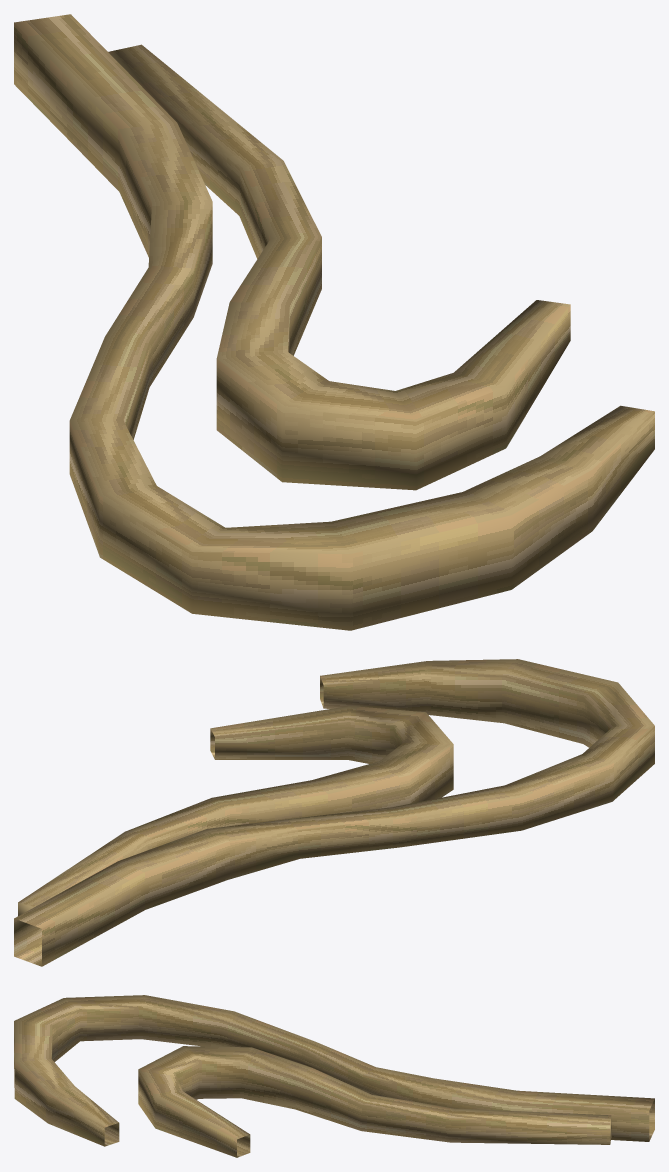
The model's file is EKH_BARRELROOM_PS_JA1_GATE03.fbx.
3 views of the same model, one above another, from view 1: azimuth 30°, elevation 25°; view 2: azimuth 150°, elevation 25°; view 3: azimuth 270°, elevation 25° (orthographic). The views are drawn at different scales.
Visible parts, largest first — view 1: EKH_BARRELROOM_PS_JA1_GATE03; view 2: EKH_BARRELROOM_PS_JA1_GATE03; view 3: EKH_BARRELROOM_PS_JA1_GATE03.
Boxes of the visible parts, bbox=[...] form: EKH_BARRELROOM_PS_JA1_GATE03: bbox=[14, 14, 654, 630]; EKH_BARRELROOM_PS_JA1_GATE03: bbox=[14, 659, 654, 966]; EKH_BARRELROOM_PS_JA1_GATE03: bbox=[14, 995, 654, 1157].
Bounding box in the file's own units: 5396 × 703 × 10588.
Materials: 1 (1 with a texture image).
